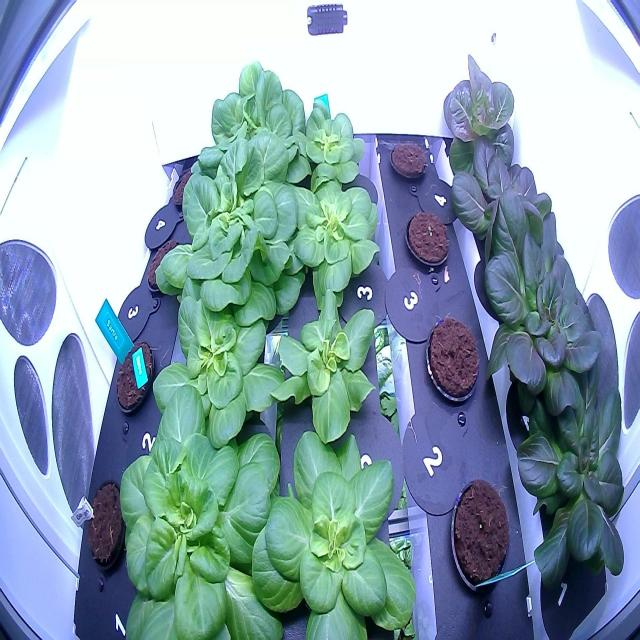pod: (444, 472, 517, 604), (420, 309, 484, 408), (82, 472, 132, 575), (110, 339, 156, 420), (403, 202, 453, 276), (144, 231, 186, 305), (386, 132, 432, 188), (168, 156, 205, 215)
young: (114, 376, 291, 640), (248, 417, 419, 639), (153, 125, 319, 334), (472, 181, 612, 423), (508, 358, 632, 604), (147, 273, 296, 457), (267, 285, 393, 452), (187, 53, 315, 199), (444, 127, 566, 265), (282, 172, 390, 314), (440, 46, 524, 190), (293, 97, 371, 195)
